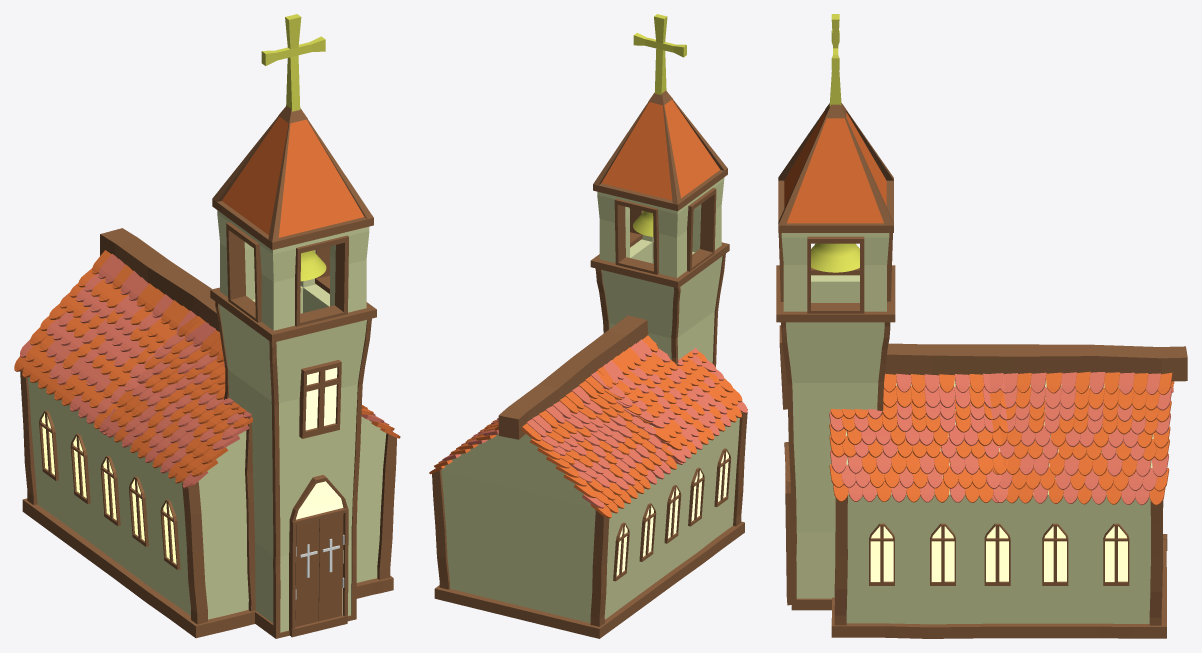
The model's file is Sketchfab_2024_04_21_00_46_47.fbx.
The picture shows the model from 3 angles, left to right: view 1: azimuth 30°, elevation 25°; view 2: azimuth 150°, elevation 25°; view 3: azimuth 270°, elevation 25°; orthographic projection. The views are drawn at different scales.
Parts seen in each view (by area): view 1: House Tile_Tile Color 1_0.002; view 2: House Tile_Tile Color 1_0.002; view 3: House Tile_Tile Color 1_0.002.
Part boxes in pixels (<box>): House Tile_Tile Color 1_0.002: <box>14,14,400,638</box>; House Tile_Tile Color 1_0.002: <box>429,14,747,638</box>; House Tile_Tile Color 1_0.002: <box>776,14,1187,638</box>.
Bounding box in the file's own units: 2656 × 6825 × 4423.
